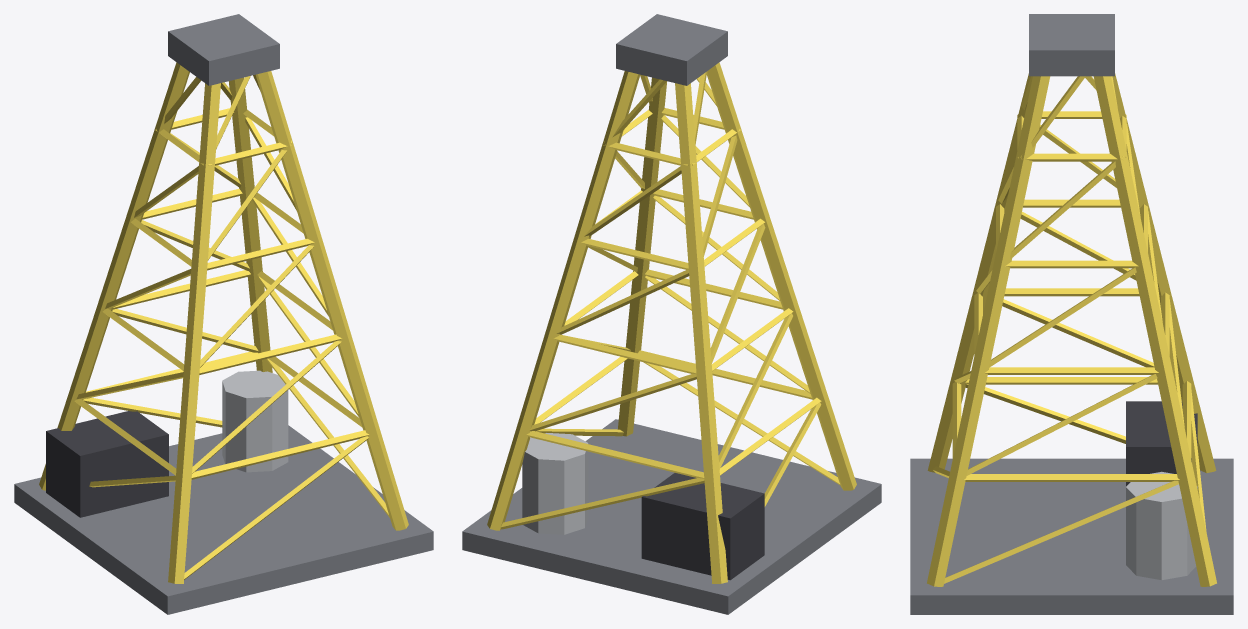
File: bohrturm.glb
3 renders of one model, left to right at view 1: azimuth 30°, elevation 25°; view 2: azimuth 150°, elevation 25°; view 3: azimuth 270°, elevation 25°, orthographic. The views are drawn at different scales.
Visible parts, largest first — view 1: metall_dunkel_0, schwarz_47, gelb_3, gelb_4, gelb_2, metall_dunkel_45, metall_46, gelb_1, gelb_9, gelb_10, gelb_18, gelb_17 (+18 smaller); view 2: metall_dunkel_0, schwarz_47, gelb_2, gelb_1, gelb_3, metall_dunkel_45, metall_46, gelb_4, gelb_6, gelb_5, gelb_14, gelb_16 (+17 smaller); view 3: metall_dunkel_0, gelb_1, gelb_4, metall_46, metall_dunkel_45, gelb_3, schwarz_47, gelb_2, gelb_11, gelb_12, gelb_19, gelb_7 (+16 smaller).
Boxes of the visible parts, x1,y1,x2,y2 form: metall_dunkel_0: (14, 425, 433, 614); schwarz_47: (46, 411, 168, 517); gelb_3: (168, 83, 220, 583); gelb_4: (255, 71, 408, 530); gelb_2: (39, 62, 189, 490); metall_dunkel_45: (168, 14, 279, 85); metall_46: (222, 370, 288, 472); gelb_1: (229, 77, 272, 372); gelb_9: (191, 430, 369, 479); gelb_10: (184, 436, 368, 579); gelb_18: (192, 340, 341, 473); gelb_17: (199, 334, 341, 374); metall_dunkel_0: (462, 419, 881, 614); schwarz_47: (641, 473, 764, 580); gelb_2: (675, 83, 727, 583); gelb_1: (487, 71, 640, 530); gelb_3: (706, 62, 856, 490); metall_dunkel_45: (616, 14, 727, 85); metall_46: (522, 433, 588, 534); gelb_4: (617, 77, 666, 436); gelb_6: (501, 478, 704, 529); gelb_5: (526, 431, 704, 478); gelb_14: (529, 373, 696, 431); gelb_16: (718, 313, 792, 469); metall_dunkel_0: (910, 458, 1233, 614); gelb_1: (1093, 76, 1216, 586); gelb_4: (927, 76, 1050, 586); metall_46: (1126, 471, 1197, 580); metall_dunkel_45: (1029, 14, 1114, 76); gelb_3: (927, 73, 1030, 472); schwarz_47: (1126, 401, 1197, 486); gelb_2: (1112, 73, 1216, 473); gelb_11: (964, 474, 1179, 481); gelb_12: (944, 480, 1178, 583); gelb_19: (985, 367, 1158, 374); gelb_7: (965, 377, 1157, 384).
Size of the model in its own units: 0.9 by 1.58 by 0.9.
